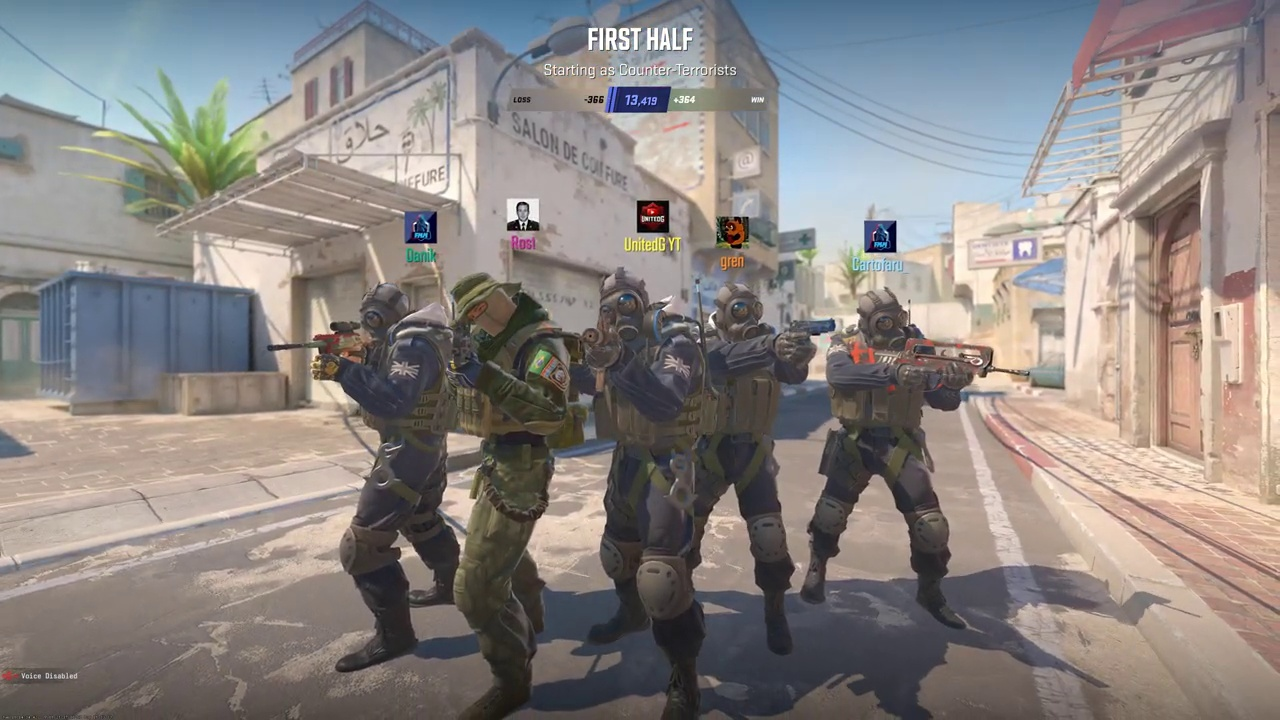CT: (810, 286, 965, 622), (448, 275, 563, 720), (588, 277, 701, 716), (331, 282, 452, 671), (692, 282, 808, 656)
